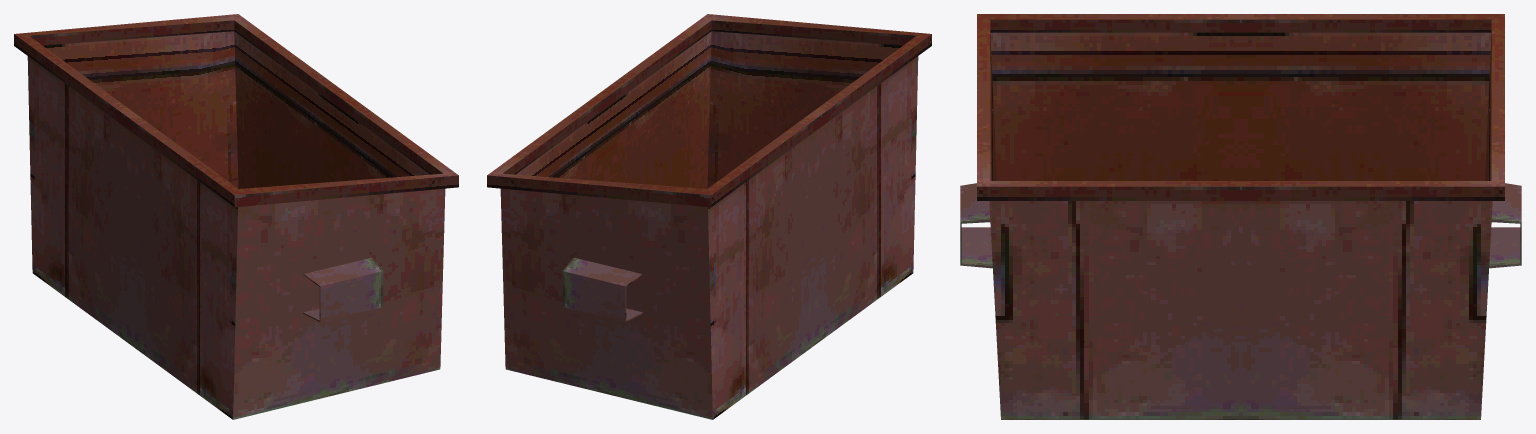
The model's file is dumpster_diagonal_empty_no_lid_red.glb.
3 renders of one model, left to right at view 1: azimuth 30°, elevation 25°; view 2: azimuth 150°, elevation 25°; view 3: azimuth 270°, elevation 25°, orthographic. The views are drawn at different scales.
Parts seen in each view (by area): view 1: dumpster_diagonal_empty_no_lid_red; view 2: dumpster_diagonal_empty_no_lid_red; view 3: dumpster_diagonal_empty_no_lid_red.
Part boxes in pixels (bbox=[...]): dumpster_diagonal_empty_no_lid_red: bbox=[14, 14, 458, 419]; dumpster_diagonal_empty_no_lid_red: bbox=[487, 14, 931, 419]; dumpster_diagonal_empty_no_lid_red: bbox=[960, 14, 1521, 419].
Size of the model in its own units: 2.03 by 2.02 by 3.67.
1 material, 1 textured.
